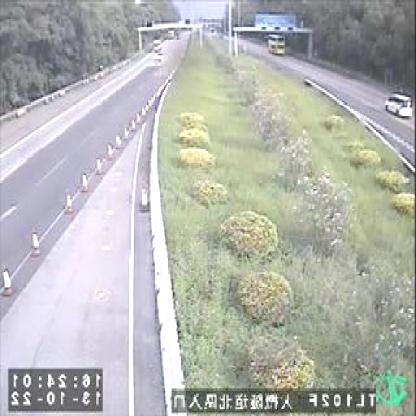Bus: (267, 32, 286, 56)
Car: (383, 90, 414, 119)
